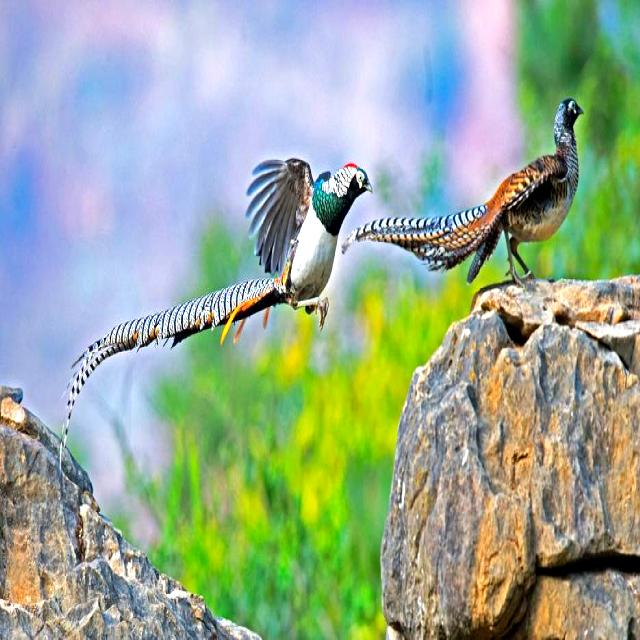Chrysolophus amherstiae: (68, 270, 289, 410), (355, 205, 479, 269)
